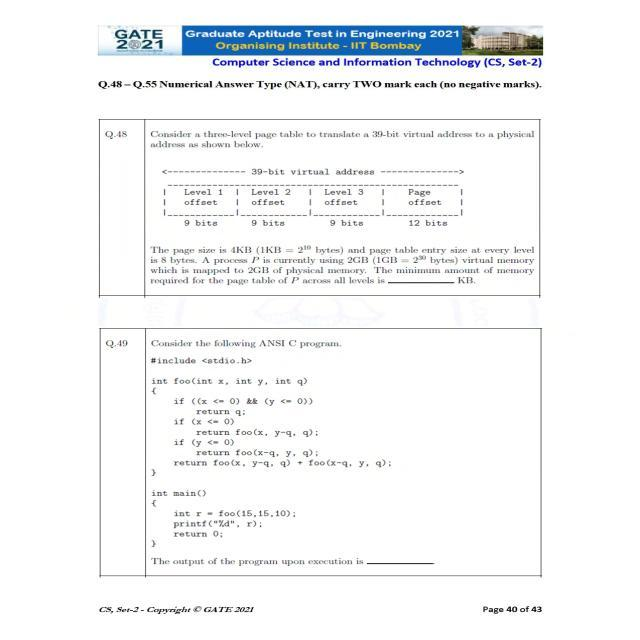Question_Answer_Block: (56, 330, 590, 585), (52, 115, 586, 314)
Question_Block: (56, 330, 590, 585), (52, 115, 586, 314)
Question_Paper_Area: (52, 70, 586, 600)
